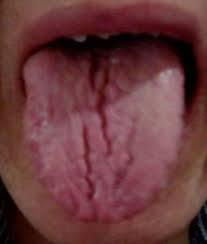baitaishe: (22, 46, 185, 223)
liewenshe: (79, 52, 139, 203)
